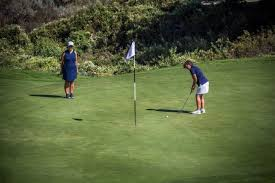Good: (60, 40, 211, 117)
